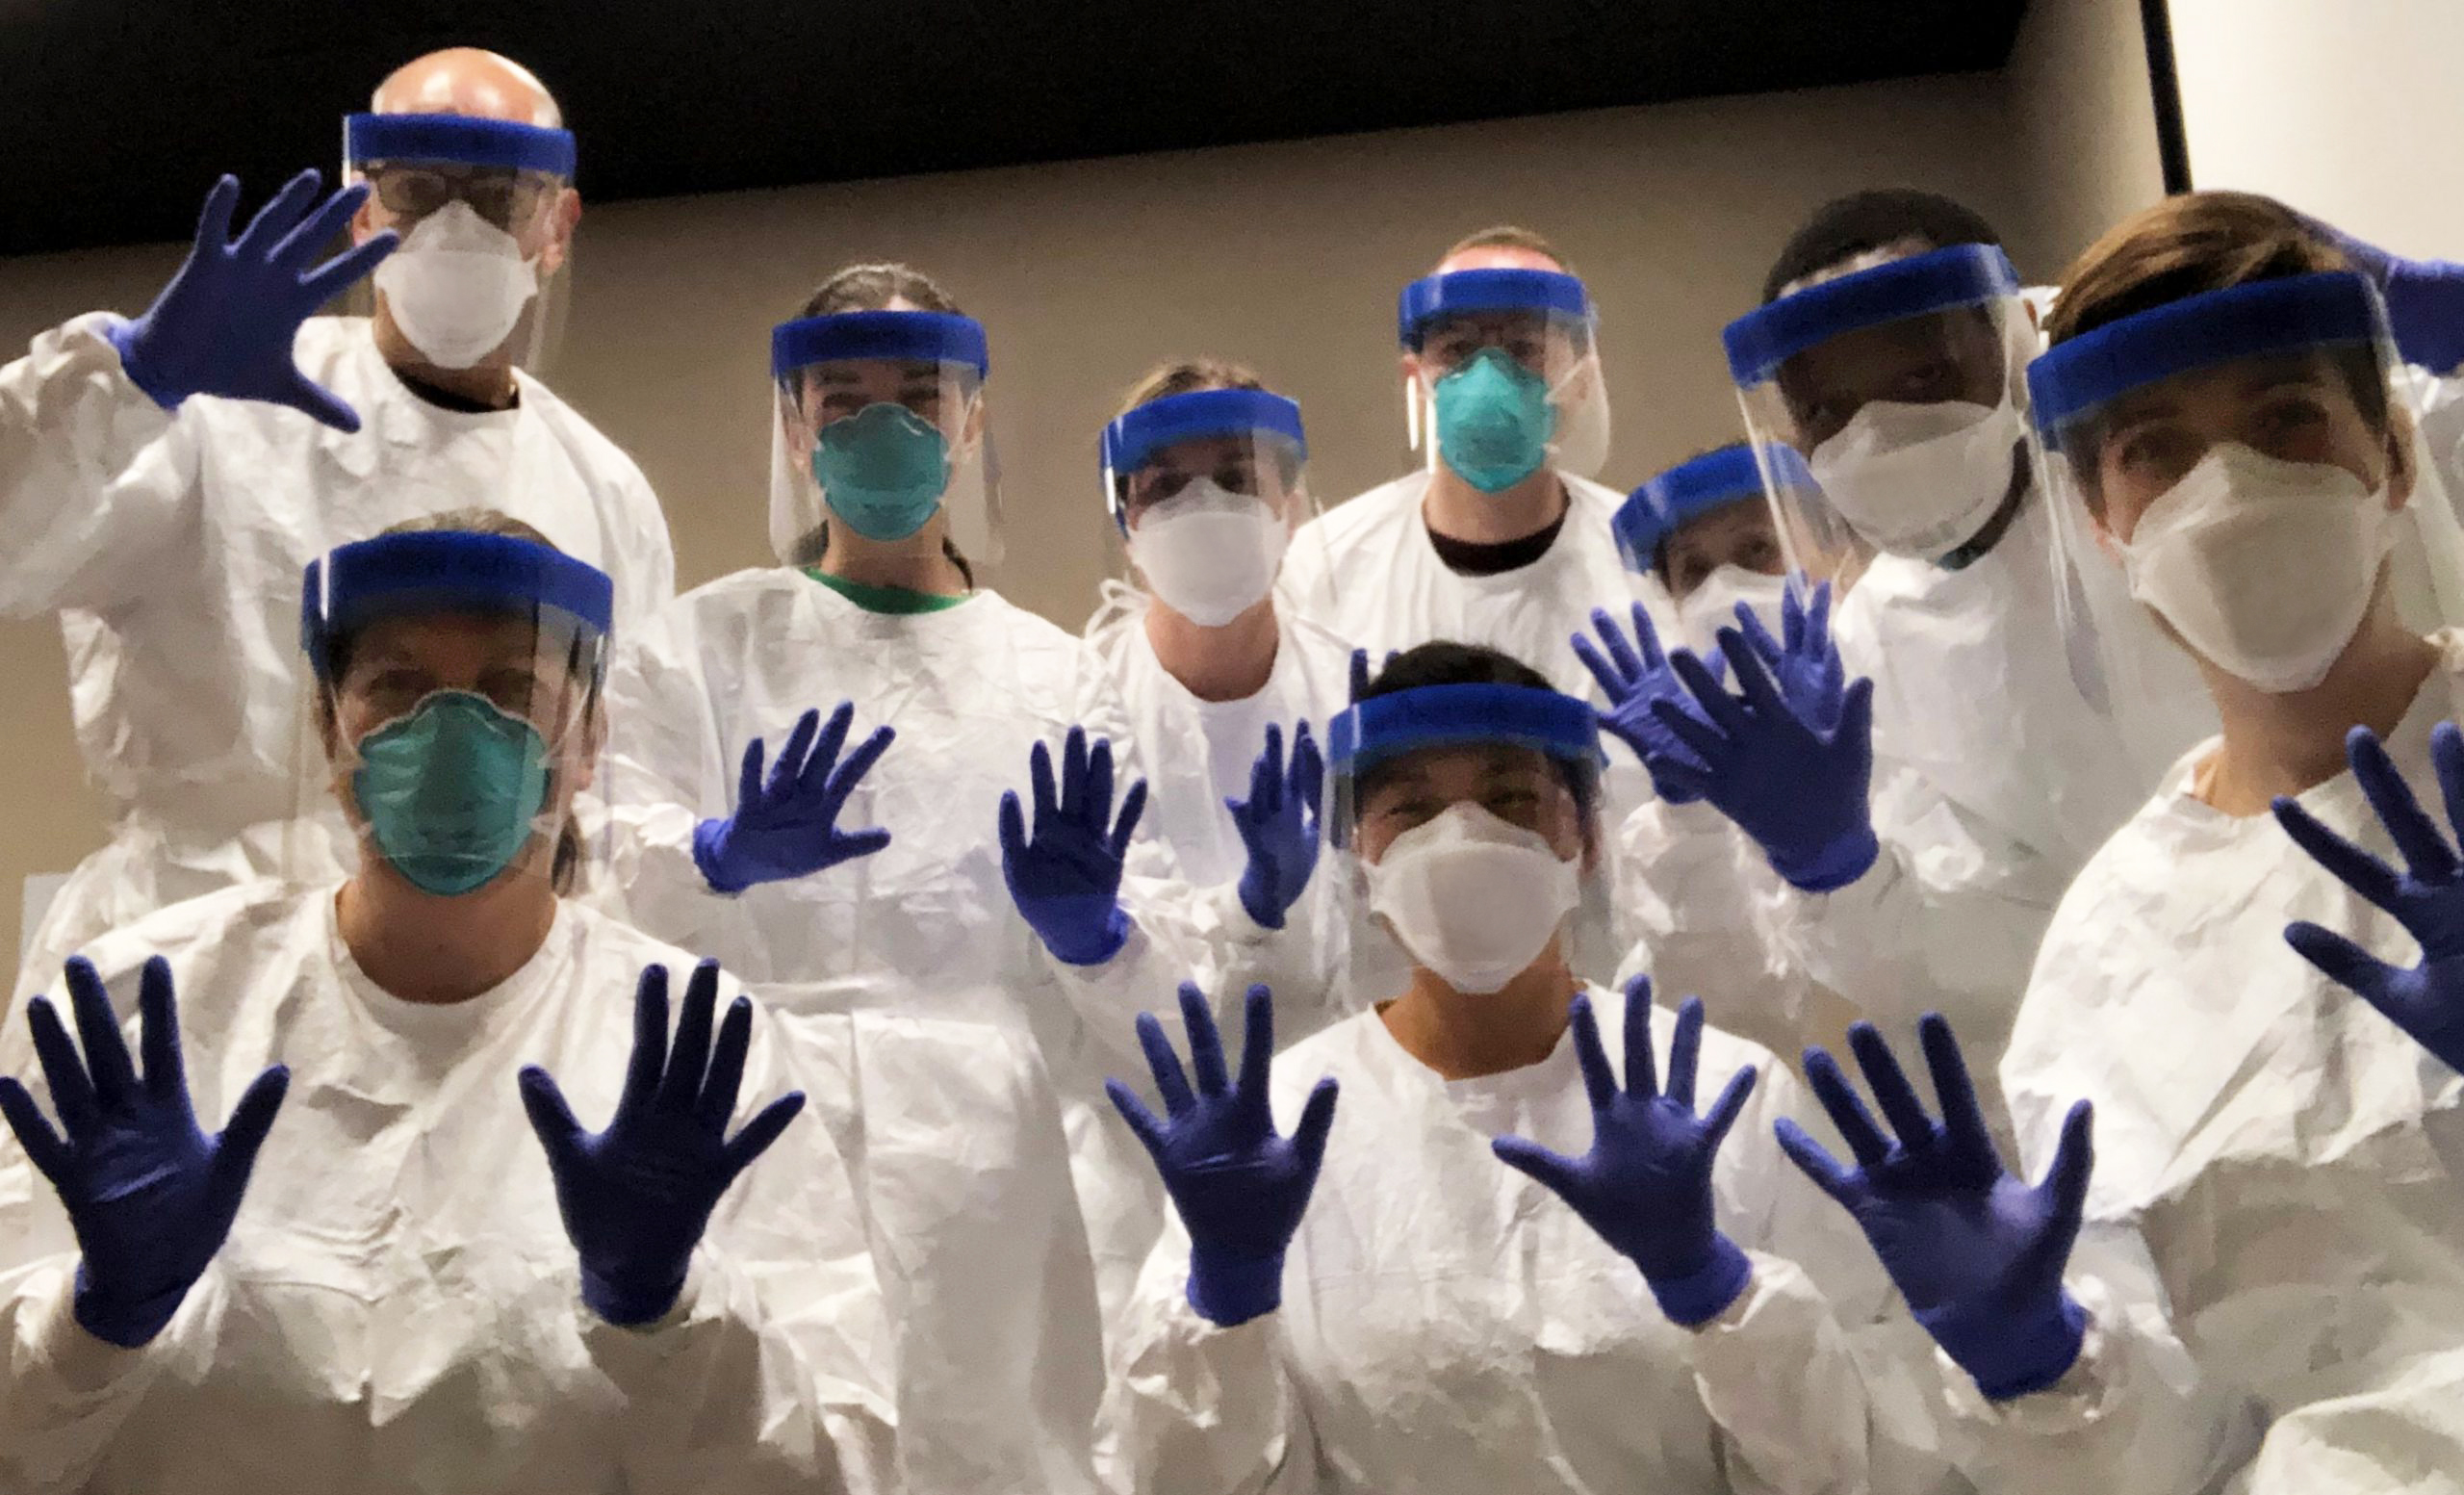Coverall: (32, 921, 862, 1495), (1122, 1000, 1885, 1495), (2008, 734, 2464, 1495), (11, 326, 686, 798), (633, 549, 1108, 1102)
Gloves: (1772, 1005, 2114, 1400), (503, 955, 821, 1337), (1, 952, 295, 1356), (1490, 976, 1774, 1332), (1091, 974, 1344, 1340), (114, 155, 402, 439), (1642, 625, 1921, 897), (670, 687, 906, 907), (1533, 581, 1738, 827), (980, 716, 1177, 974), (1206, 709, 1355, 942)
with_mask: (2101, 394, 2414, 690), (343, 649, 554, 899), (1370, 767, 1586, 998), (1798, 346, 2017, 565), (372, 143, 559, 368), (1132, 432, 1281, 632), (805, 365, 963, 538), (1421, 331, 1577, 503)
